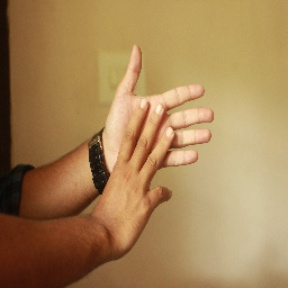M: (92, 45, 215, 211)
